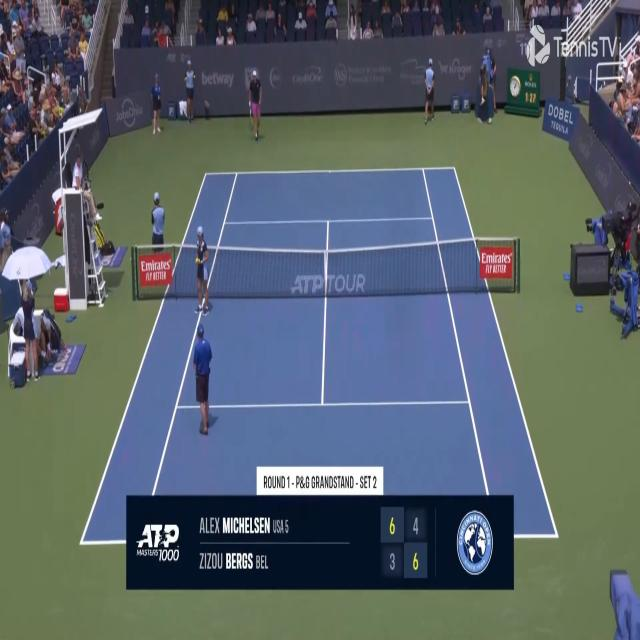tennis-player: (246, 67, 262, 142)
